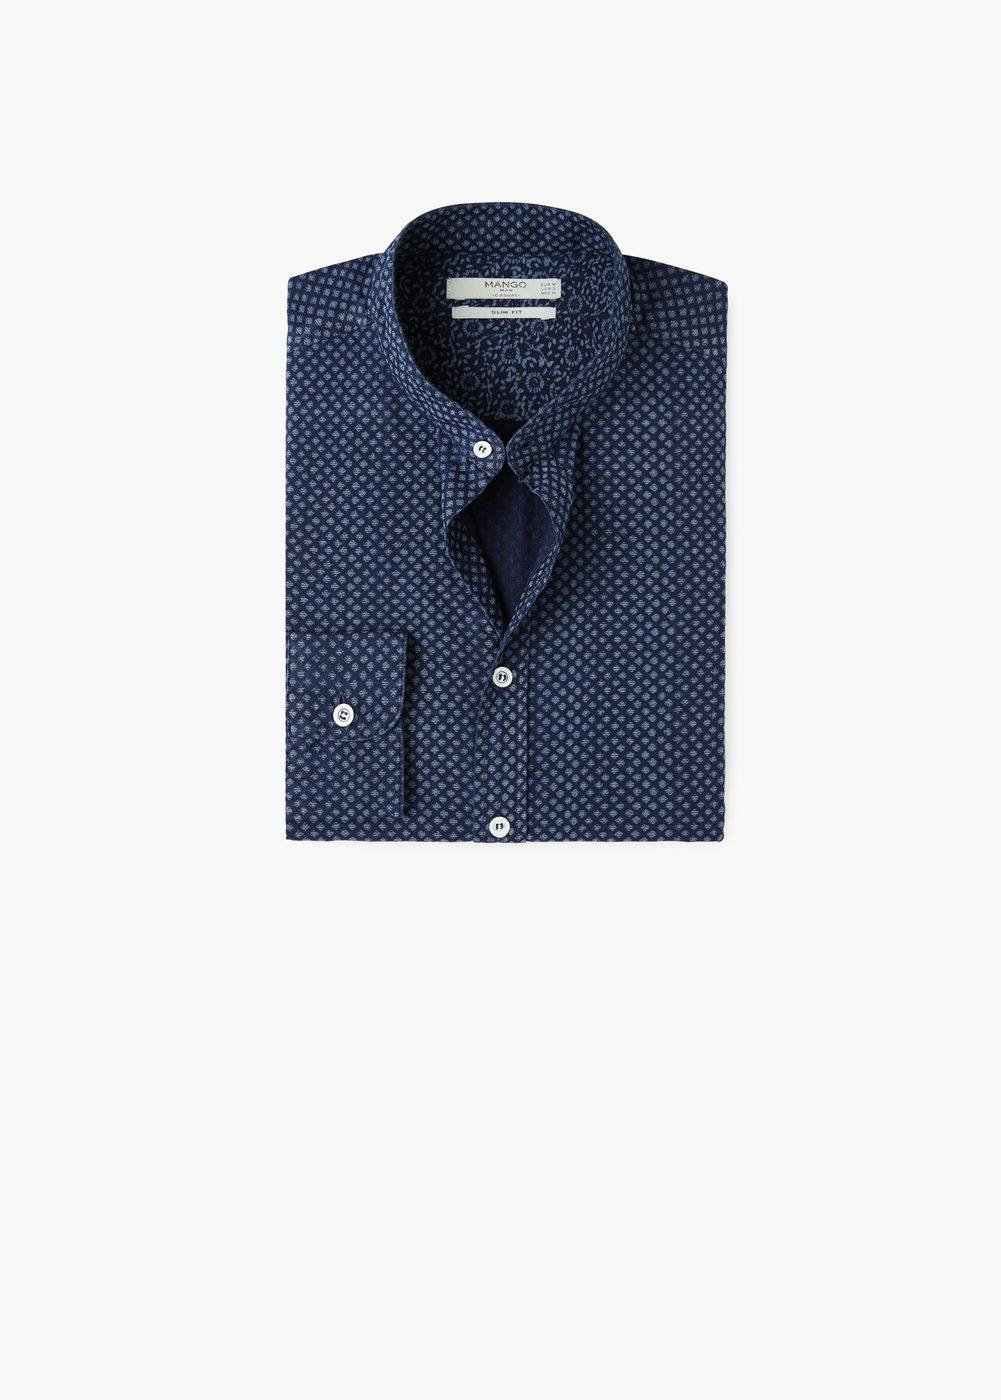teeshirt: (244, 195, 750, 867)
